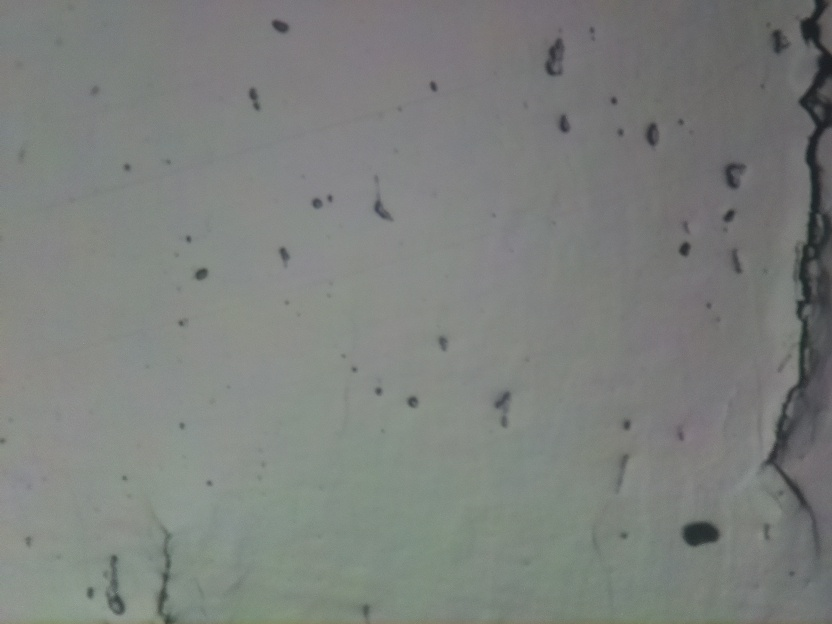crack: (760, 0, 832, 550), (147, 522, 185, 624)
